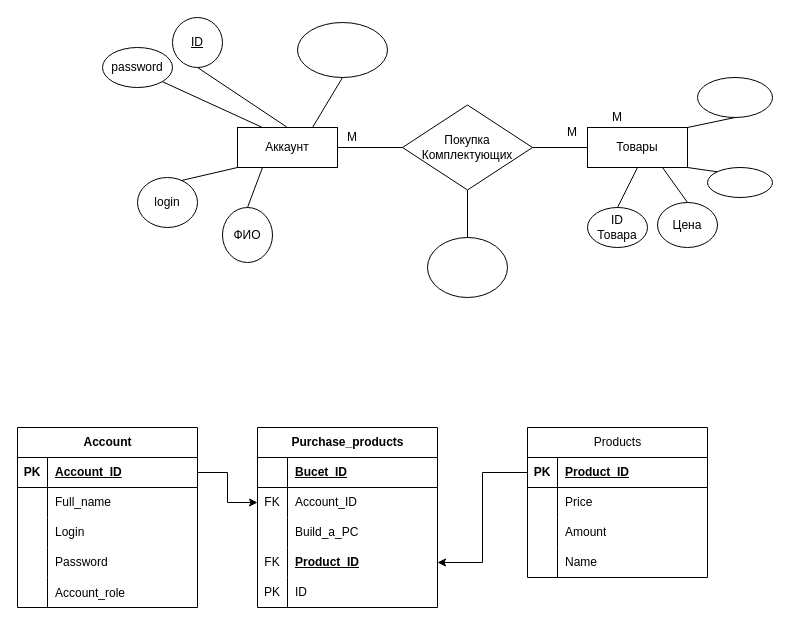
Image size: 790x625. Some labels were removed from this diagram. The shapes that lost their labels are listed below. From the top down, each one's centre as x and y in pixels, then its label:
At point (342, 50): "Роль аккаунта".
At point (734, 97): "Количество".
At point (739, 182): "Название".
At point (467, 267): "Собрать ПК".
